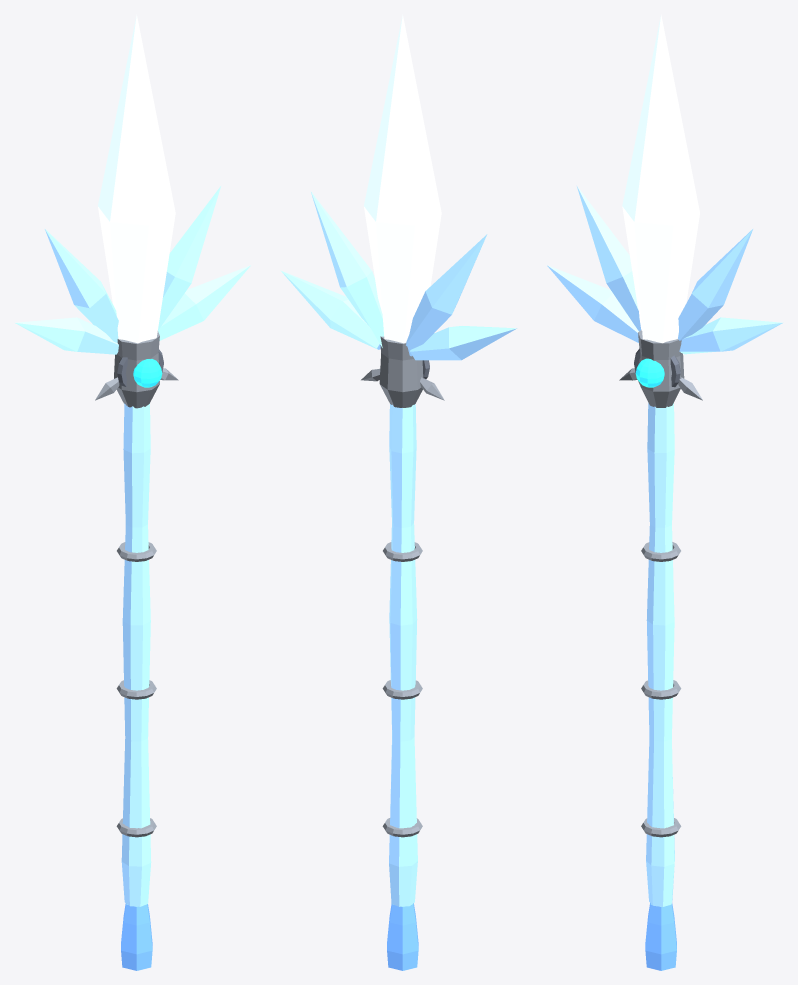
File: staff_glacialspear.glb
3 views of the same model, side by side, from view 1: azimuth 30°, elevation 25°; view 2: azimuth 150°, elevation 25°; view 3: azimuth 330°, elevation 25° (orthographic).
Parts seen in each view (by area): view 1: Gs_Blade, Gs_Shaft, Gs_Side1, Gs_Side0, Gs_Side2, Gs_Side3, Gs_Neck, Gs_Butt, Gs_Gem; view 2: Gs_Blade, Gs_Shaft, Gs_Side0, Gs_Side1, Gs_Side2, Gs_Neck, Gs_Side3, Gs_Butt; view 3: Gs_Blade, Gs_Shaft, Gs_Side0, Gs_Side1, Gs_Side3, Gs_Side2, Gs_Butt, Gs_Neck, Gs_Gem.
Part boxes in pixels (x1,y1,x2,y2): Gs_Blade: [98, 14, 175, 343]; Gs_Shaft: [121, 403, 151, 906]; Gs_Side1: [45, 229, 118, 342]; Gs_Side0: [158, 186, 220, 330]; Gs_Side2: [158, 265, 250, 340]; Gs_Side3: [15, 317, 118, 354]; Gs_Neck: [114, 331, 159, 408]; Gs_Butt: [121, 903, 152, 970]; Gs_Gem: [133, 359, 162, 387]; Gs_Blade: [364, 14, 441, 343]; Gs_Shaft: [389, 404, 417, 906]; Gs_Side0: [310, 191, 383, 347]; Gs_Side1: [406, 234, 487, 356]; Gs_Side2: [280, 270, 380, 349]; Gs_Neck: [379, 336, 423, 407]; Gs_Side3: [410, 326, 516, 360]; Gs_Butt: [387, 903, 418, 970]; Gs_Blade: [622, 14, 699, 343]; Gs_Shaft: [646, 403, 674, 906]; Gs_Side0: [678, 229, 752, 340]; Gs_Side1: [577, 186, 641, 331]; Gs_Side3: [547, 265, 638, 342]; Gs_Side2: [679, 317, 782, 354]; Gs_Butt: [645, 902, 676, 970]; Gs_Neck: [638, 330, 684, 407]; Gs_Gem: [635, 358, 664, 387].
Bounding box in the file's own units: 0.7211 × 2.76 × 0.2052.
